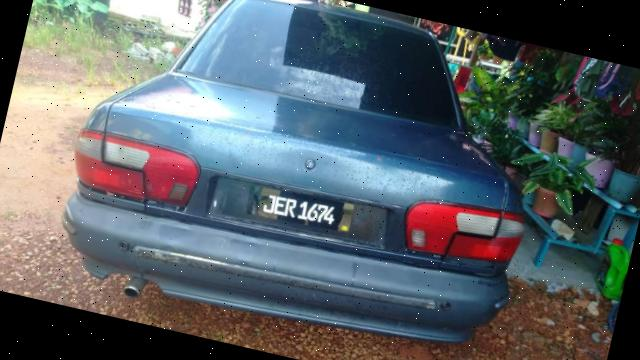License_Plate: (246, 186, 352, 240)
car: (44, 1, 558, 360)
